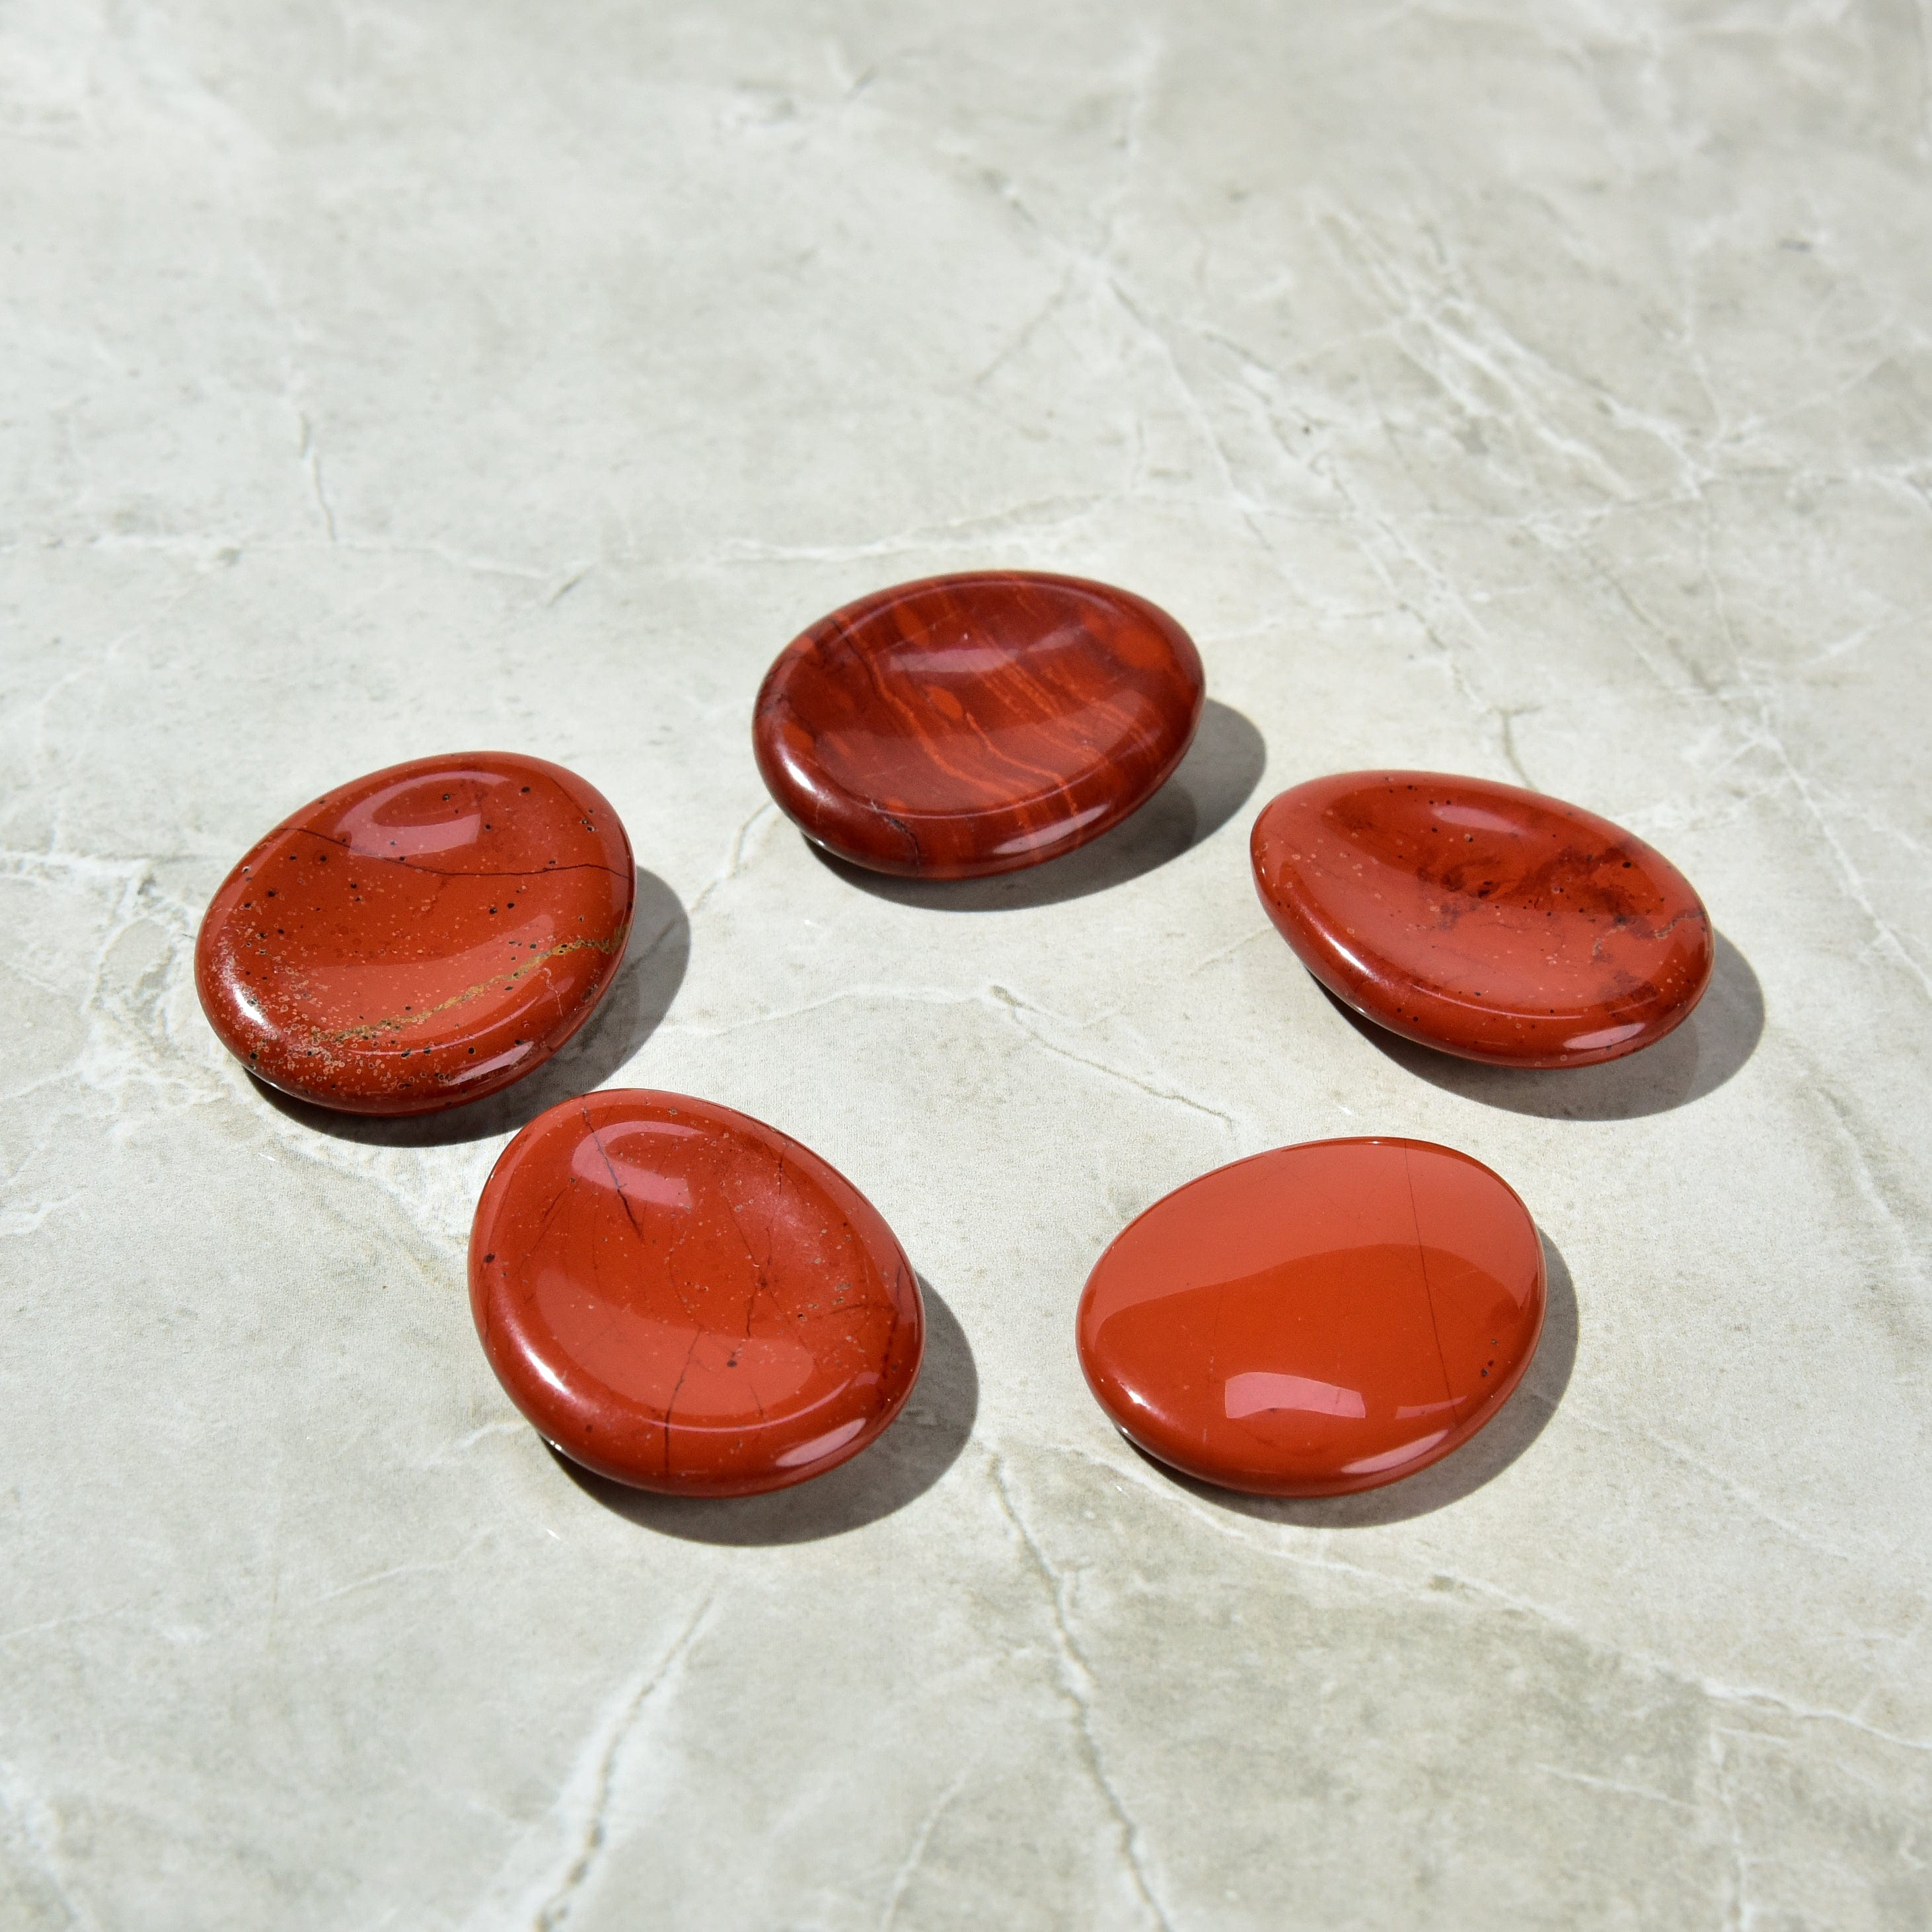Red_Jasper: (458, 1083, 957, 1500), (1088, 1127, 1552, 1507), (752, 556, 1217, 869)
